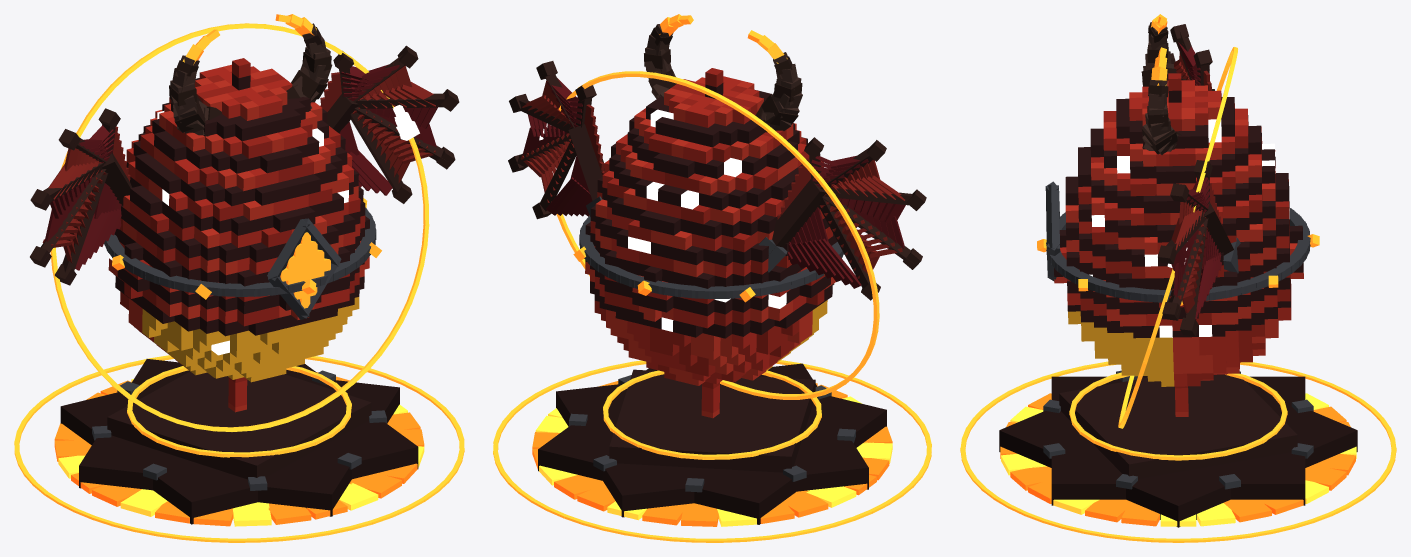
Rendered from egg_epico_dragon_fuego.glb.
3 views of the same model, side by side, from view 1: azimuth 30°, elevation 25°; view 2: azimuth 150°, elevation 25°; view 3: azimuth 270°, elevation 25° (orthographic). The views are drawn at different scales.
Parts seen in each view (by area): view 1: shell_geo, root_geo, wing_L_geo, wing_R_geo, orbit1_geo, crown_geo, floor_rings_geo, egg_geo, emblem_geo; view 2: shell_geo, root_geo, wing_R_geo, wing_L_geo, floor_rings_geo, crown_geo, orbit1_geo, egg_geo; view 3: shell_geo, root_geo, wing_L_geo, floor_rings_geo, egg_geo, crown_geo, orbit1_geo, wing_R_geo, emblem_geo.
Part boxes in pixels (x1=…): shell_geo: x1=108, y1=58, x2=369, y2=412; root_geo: x1=54, y1=359, x2=424, y2=526; wing_L_geo: x1=320, y1=45, x2=459, y2=203; wing_R_geo: x1=30, y1=108, x2=132, y2=285; orbit1_geo: x1=50, y1=23, x2=429, y2=431; crown_geo: x1=169, y1=14, x2=332, y2=136; floor_rings_geo: x1=14, y1=355, x2=464, y2=542; egg_geo: x1=104, y1=198, x2=381, y2=299; emblem_geo: x1=267, y1=218, x2=341, y2=319; shell_geo: x1=585, y1=68, x2=837, y2=418; root_geo: x1=532, y1=363, x2=892, y2=526; wing_R_geo: x1=758, y1=137, x2=926, y2=300; wing_L_geo: x1=508, y1=61, x2=604, y2=219; floor_rings_geo: x1=493, y1=360, x2=931, y2=542; crown_geo: x1=644, y1=14, x2=802, y2=132; orbit1_geo: x1=539, y1=71, x2=879, y2=399; egg_geo: x1=573, y1=215, x2=844, y2=302; shell_geo: x1=1054, y1=73, x2=1303, y2=416; root_geo: x1=999, y1=370, x2=1357, y2=527; wing_L_geo: x1=1158, y1=160, x2=1240, y2=336; floor_rings_geo: x1=960, y1=361, x2=1396, y2=542; egg_geo: x1=1037, y1=208, x2=1319, y2=305; crown_geo: x1=1141, y1=14, x2=1181, y2=154; orbit1_geo: x1=1118, y1=47, x2=1237, y2=428; wing_R_geo: x1=1170, y1=24, x2=1214, y2=90; emblem_geo: x1=1045, y1=181, x2=1060, y2=281.
Size of the model in its own units: 8 by 7.75 by 7.31.
